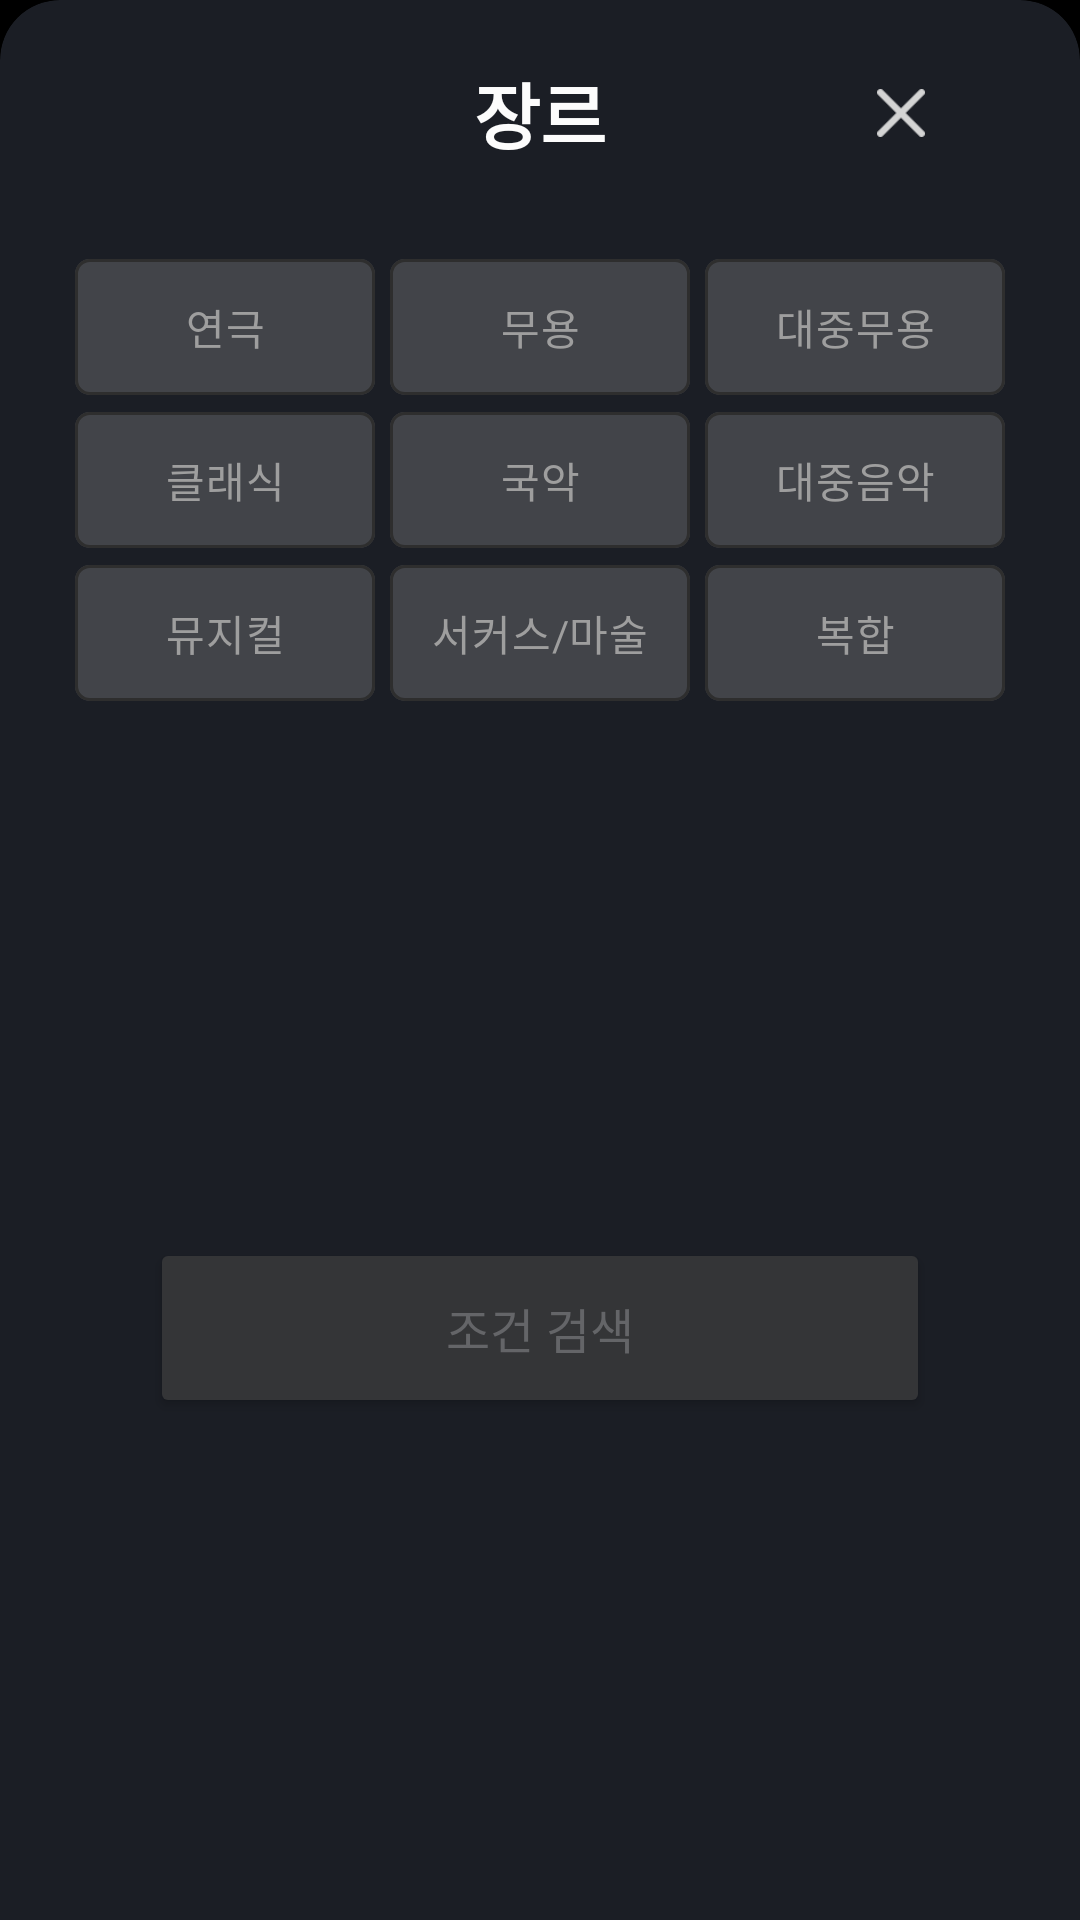

Named icons in this screenshot (1080*1920) and their bounding boxes, [x1,y1,x2,y2]:
searchfilter close: [877,89,925,137]
